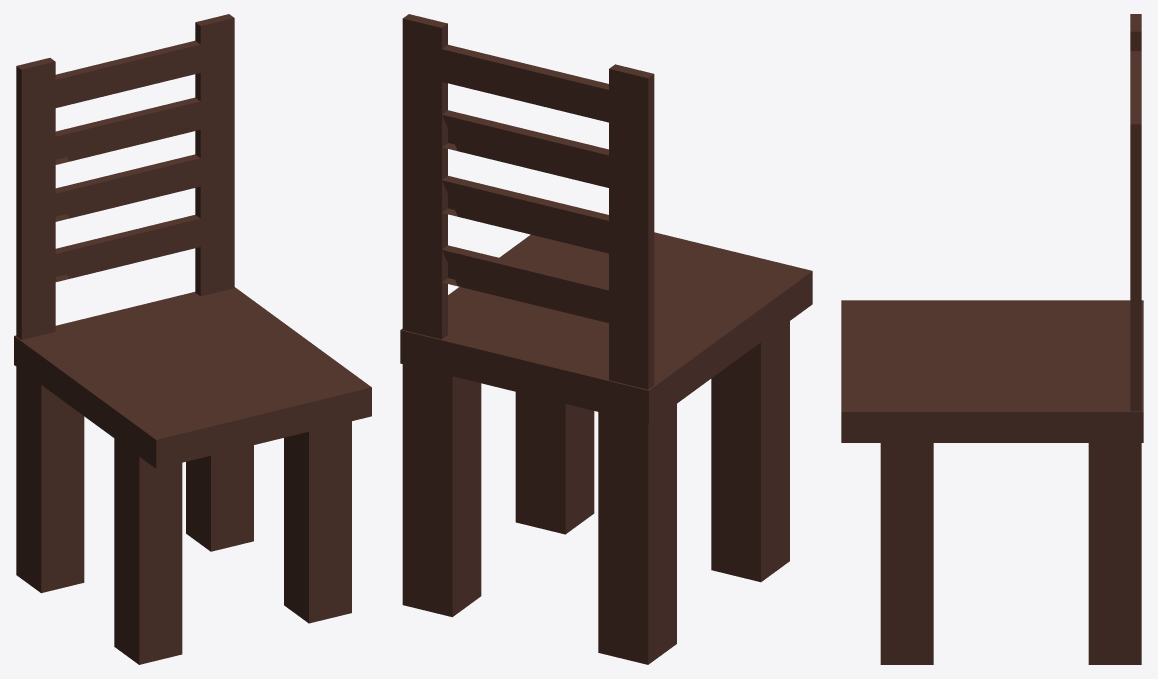
Rendered from chair.glb.
The picture shows the model from 3 angles, left to right: view 1: azimuth 30°, elevation 25°; view 2: azimuth 150°, elevation 25°; view 3: azimuth 270°, elevation 25°; orthographic projection. The views are drawn at different scales.
Parts seen in each view (by area): view 1: Back.002-col, Seat-col, Leg 1-col, Leg 1.002-col, Leg 1.001-col, Leg 1.003-col; view 2: Back.002-col, Seat-col, Leg 1.002-col, Leg 1.003-col, Leg 1-col, Leg 1.001-col; view 3: Seat-col, Leg 1.001-col, Leg 1.003-col, Back.002-col.
Part boxes in pixels (left/top/right/bottom): Back.002-col: left=16, top=14, right=234, bottom=339; Seat-col: left=14, top=287, right=371, bottom=468; Leg 1-col: left=114, top=438, right=182, bottom=664; Leg 1.002-col: left=16, top=367, right=84, bottom=593; Leg 1.001-col: left=284, top=421, right=351, bottom=623; Leg 1.003-col: left=186, top=445, right=253, bottom=551; Back.002-col: left=402, top=14, right=654, bottom=389; Seat-col: left=400, top=232, right=812, bottom=423; Leg 1.002-col: left=598, top=404, right=676, bottom=664; Leg 1.003-col: left=402, top=364, right=481, bottom=617; Leg 1-col: left=711, top=321, right=789, bottom=582; Leg 1.001-col: left=515, top=392, right=594, bottom=534; Seat-col: left=841, top=300, right=1143, bottom=442; Leg 1.001-col: left=880, top=443, right=933, bottom=664; Leg 1.003-col: left=1088, top=443, right=1141, bottom=664; Back.002-col: left=1130, top=14, right=1141, bottom=411.
Size of the model in its own units: 0.6354 by 1.43 by 0.7254.
